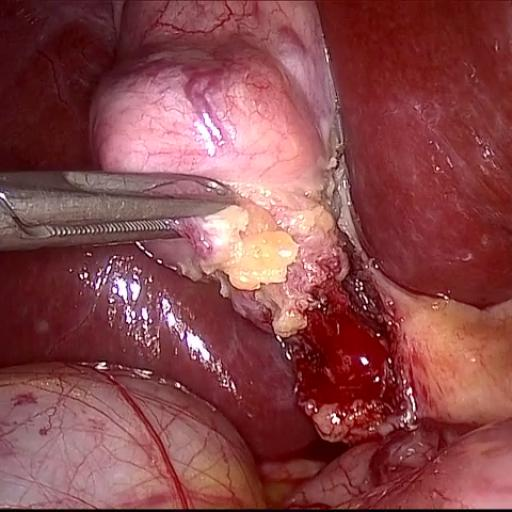Grasper: (0, 124, 245, 296)
